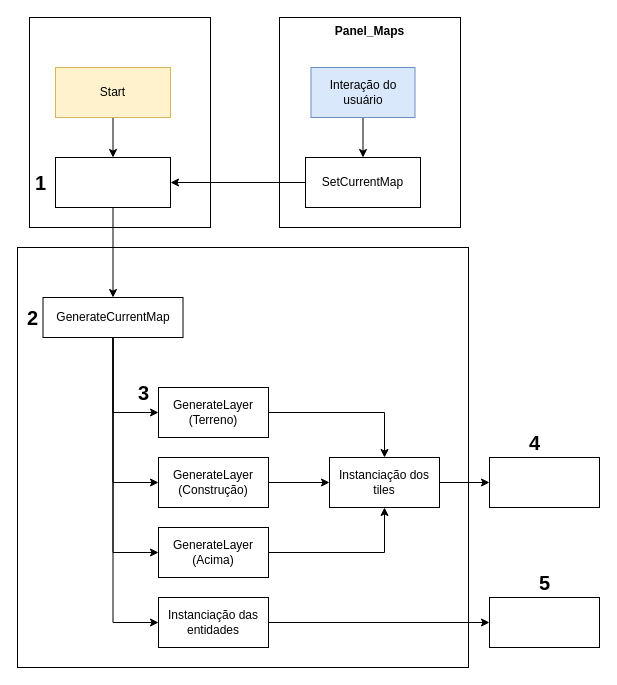
This 617x685 diagram has some shape labels left out. Here are the shapes that lost their labels. From the top down, the box of each, then its label:
(28, 16, 210, 228): Editor_MasterController
(54, 156, 170, 208): LoadCurrentMap
(16, 246, 468, 668): Editor_MapController
(488, 456, 600, 508): EditorTile
(488, 596, 600, 648): EditorEntity
